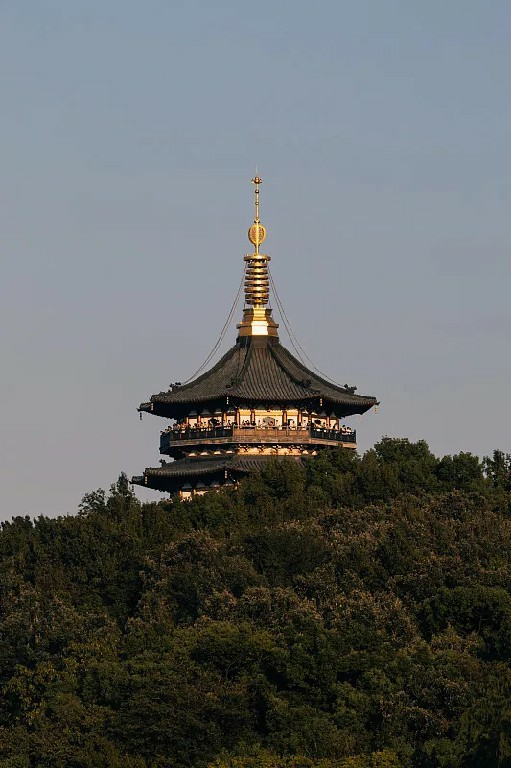Leifeng: (129, 161, 379, 496)
